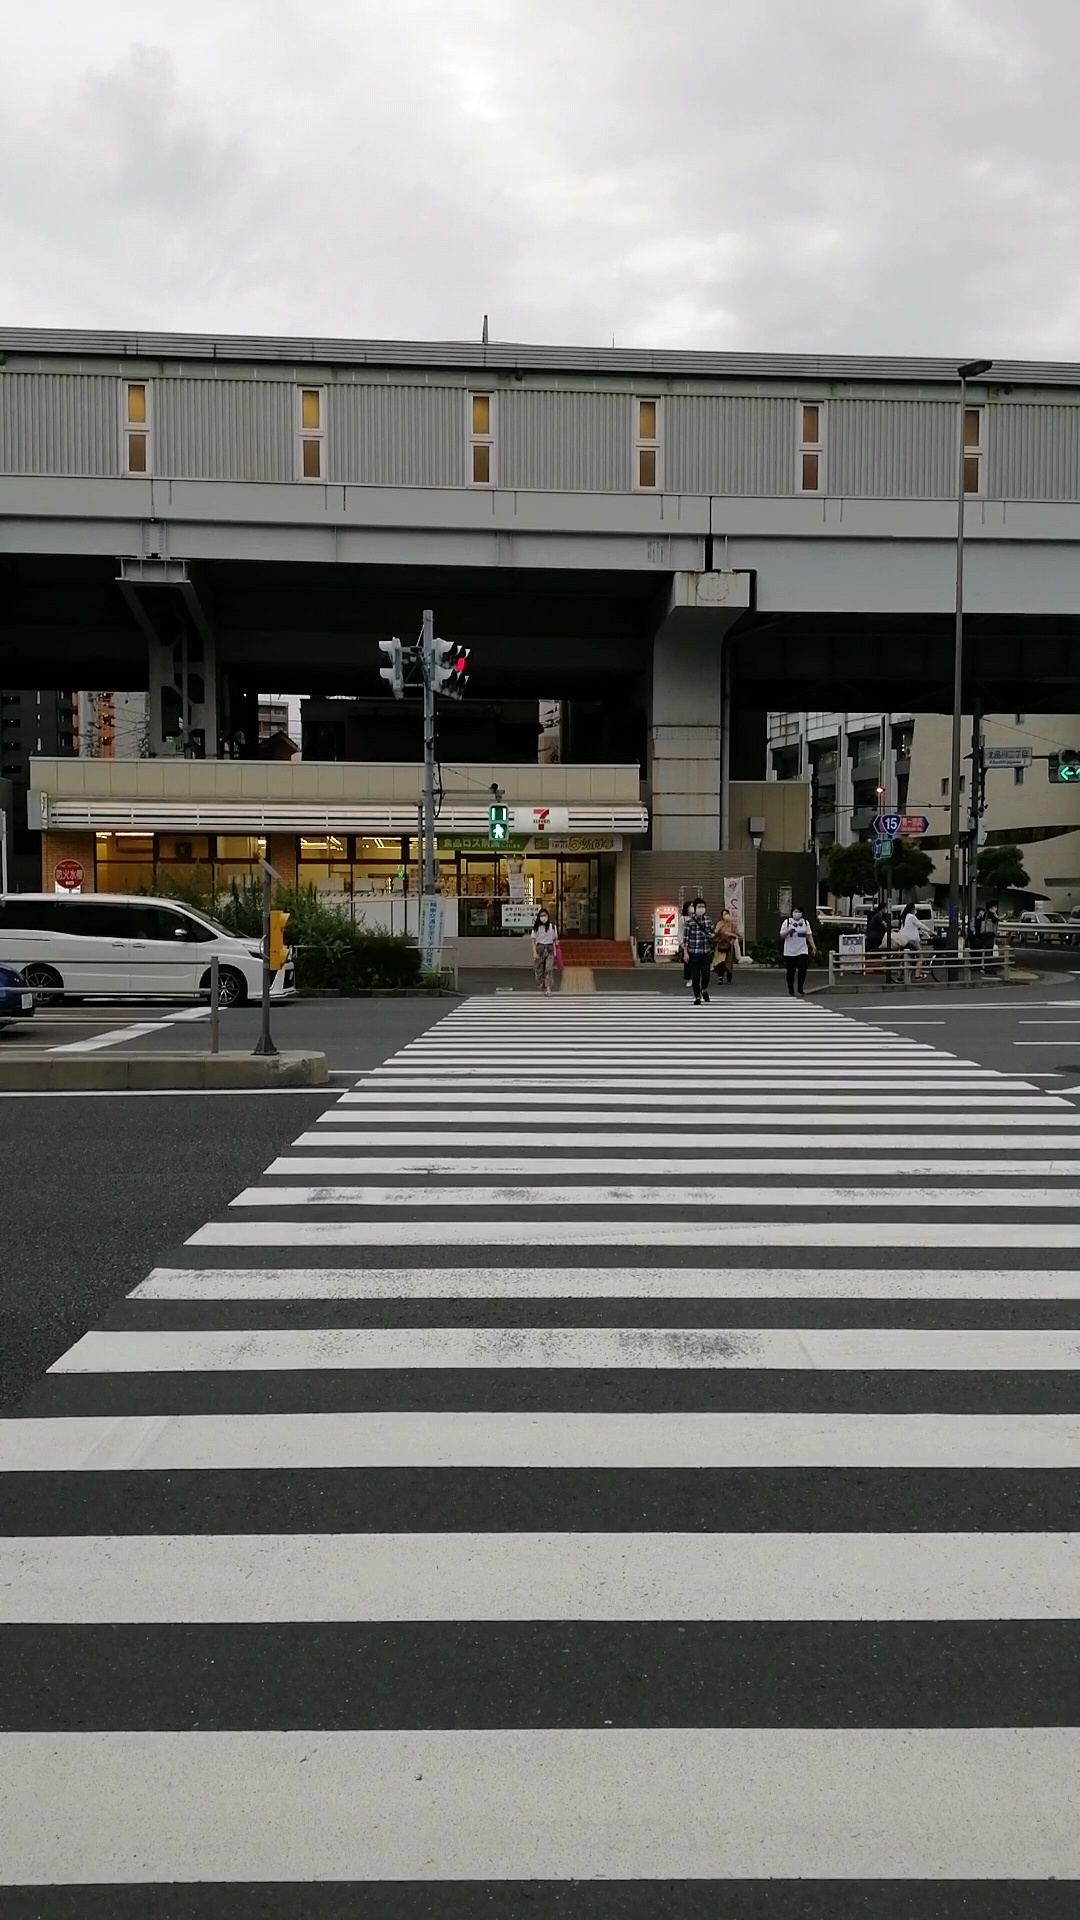green: (487, 804, 508, 843)
